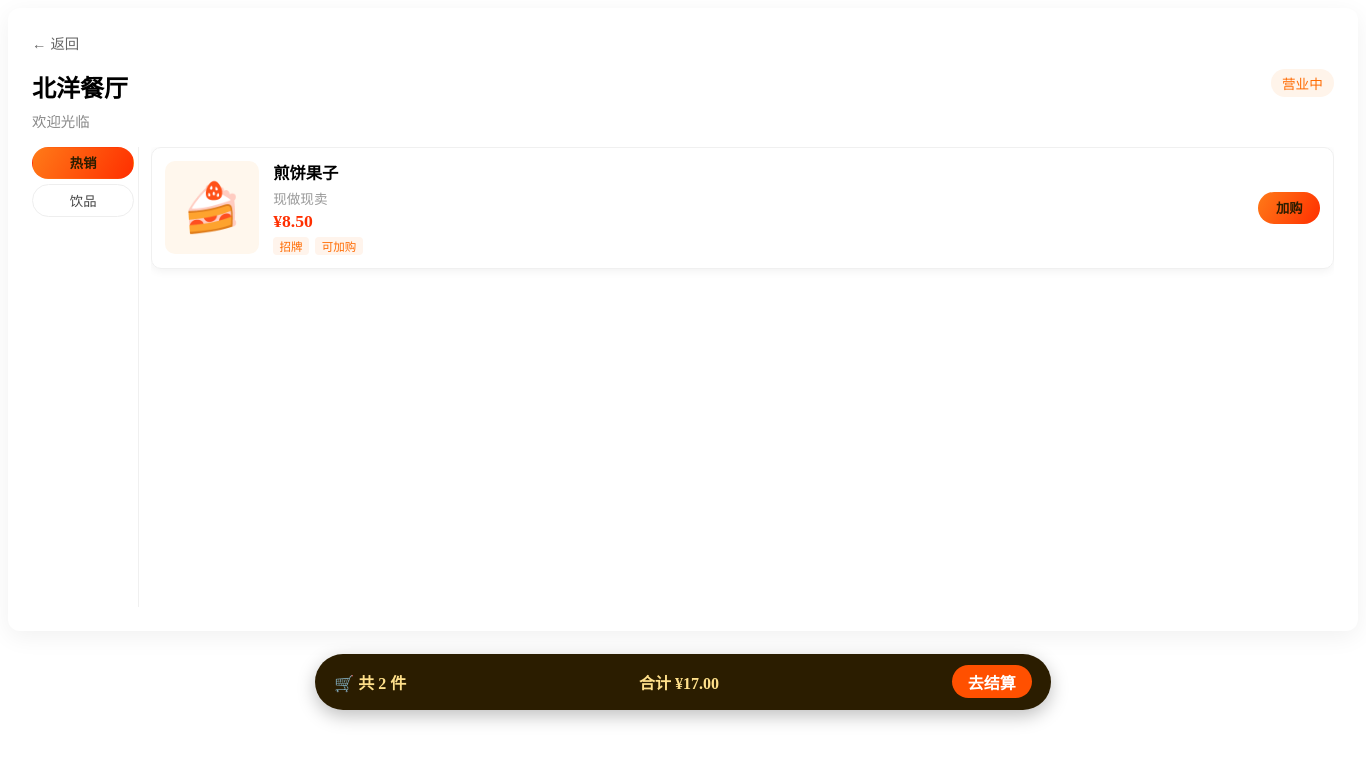
Test: 店铺页（顾客点单） › 进店即按本店已有商品显示底部购物车，且只算本店
The image size is (1366, 768).
Check: the element with test id "shop-cart-bar" shows "共 2 件", box [334,675,406,692]
Check: the element with test id "shop-cart-bar" shows "17.00", box [639,675,719,692]
Click the element with test id "shop-cart-bar" at (683, 682), box [315,654,1051,710]
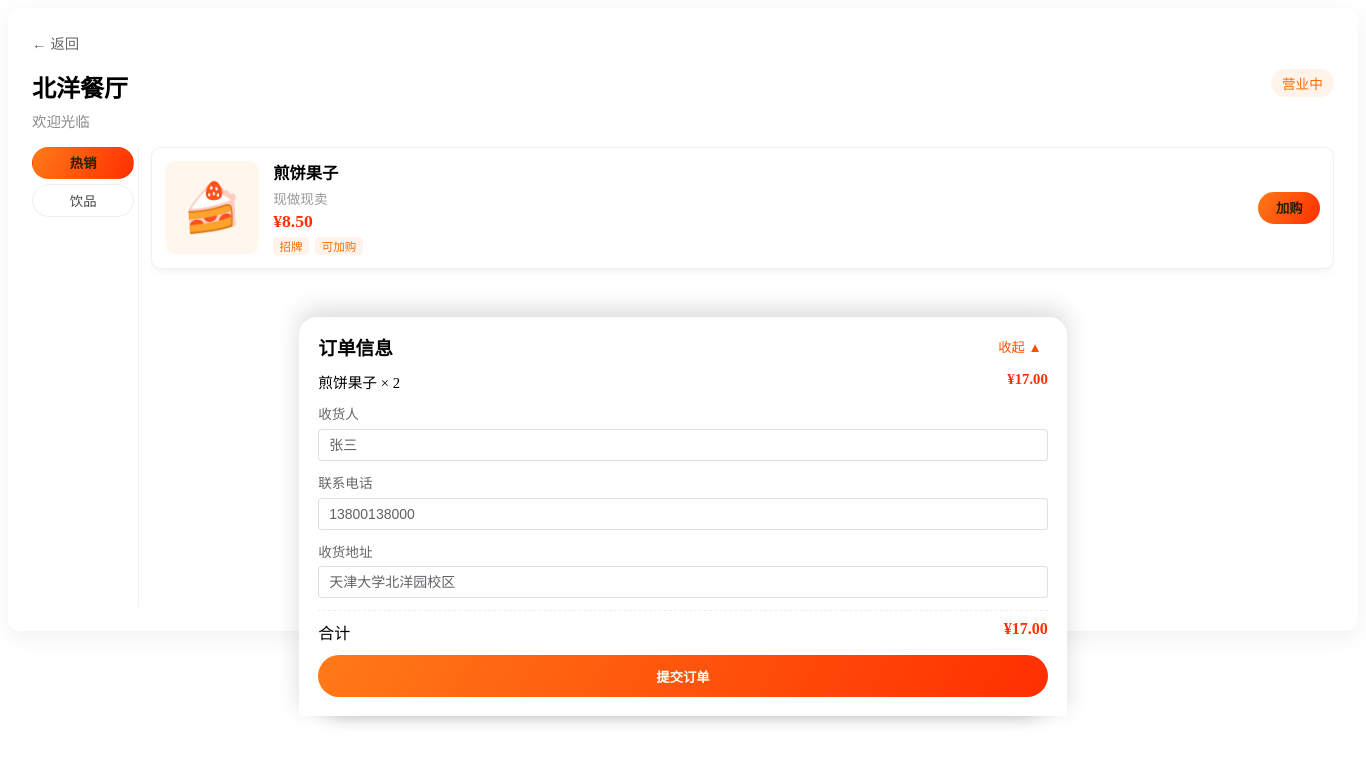
Check: the list item with test id "shop-sheet-item-50" shows "煎饼果子", box [318,375,400,391]
